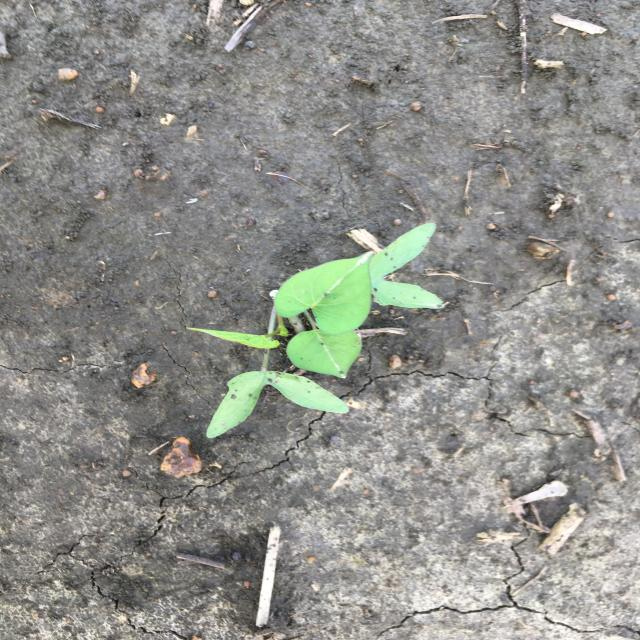MorningGlory: (178, 219, 446, 441)
